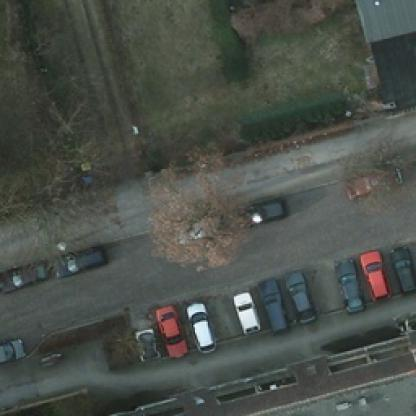car: (230, 195, 288, 231), (169, 209, 226, 242), (55, 239, 106, 275), (344, 166, 400, 198), (334, 250, 362, 312), (0, 256, 49, 290), (358, 245, 388, 298), (282, 266, 310, 320), (158, 302, 186, 356), (186, 299, 214, 353), (260, 278, 286, 332), (231, 286, 257, 335), (130, 325, 156, 367), (0, 338, 23, 362)
